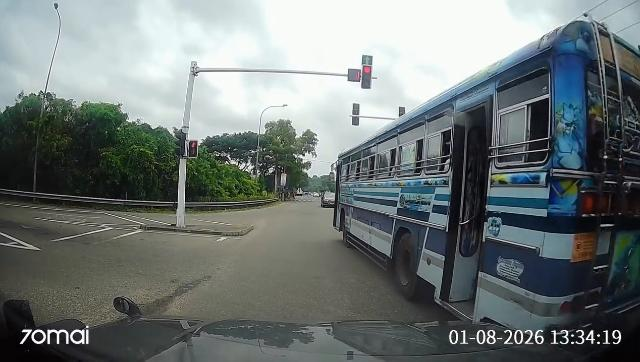red light violation: (324, 140, 559, 295)
traffic light red: (358, 64, 380, 98)
